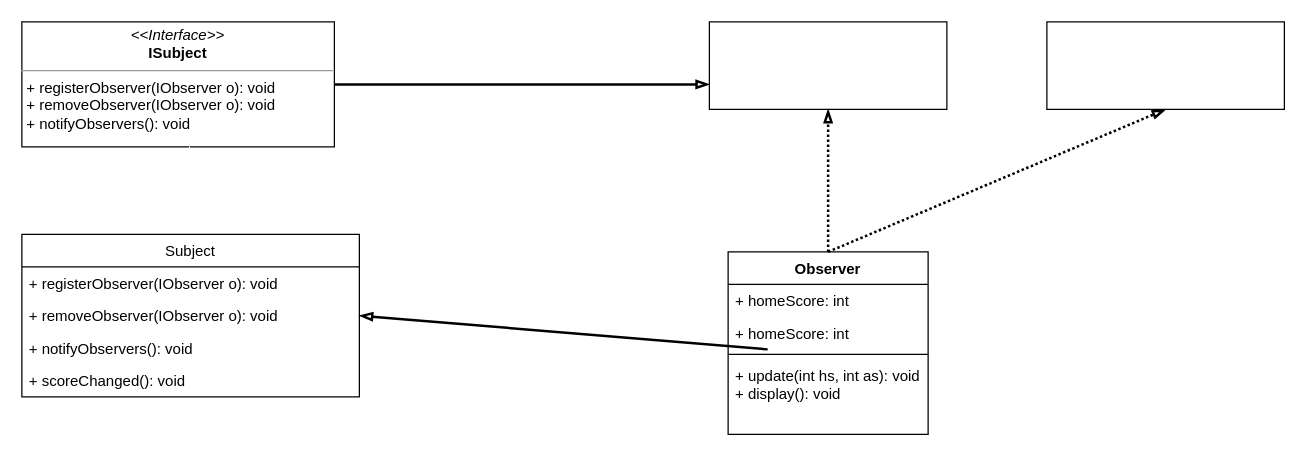
Some shapes in this 1306 by 460 pixel diagram are drawn without their labels. Here are the shapes that lost their labels. From the top down, the centre of each, then its label:
the point at 827,65: <<Interface>> IObserver + update(int hs, int as): void
the point at 1165,65: <<Interface>> IDisplayElement + display(): void
